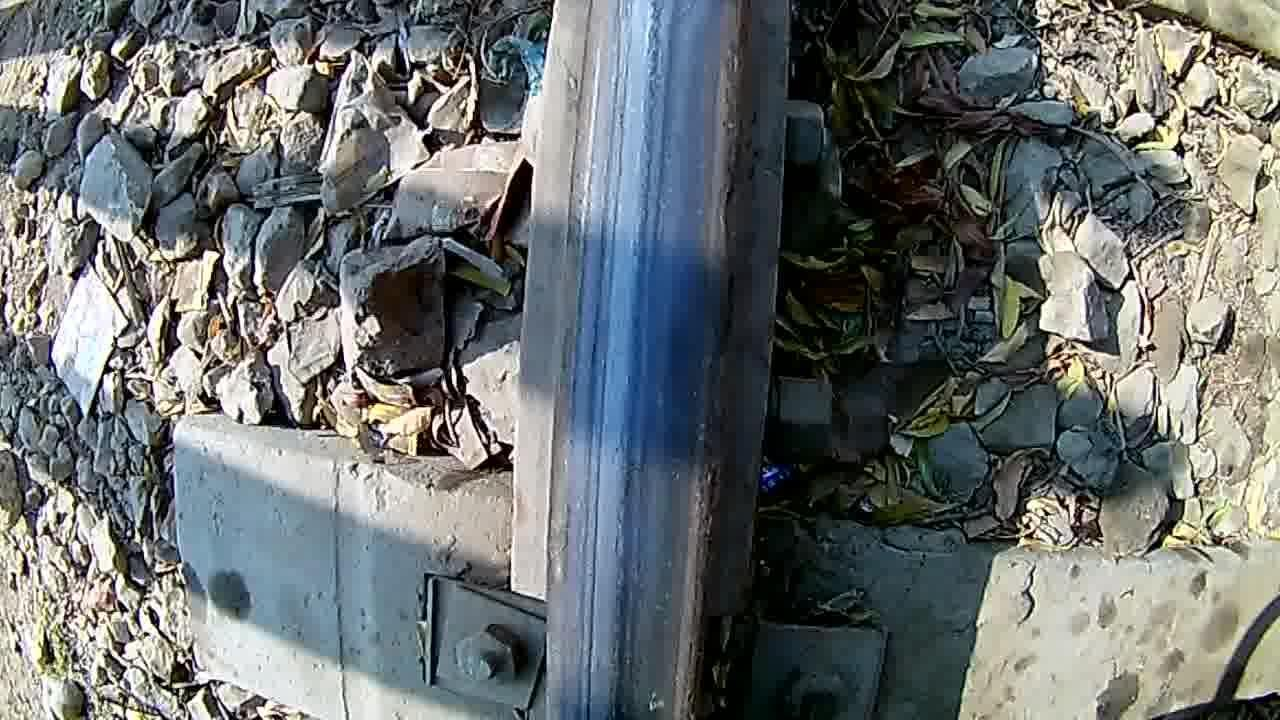crack: (551, 0, 750, 720)
